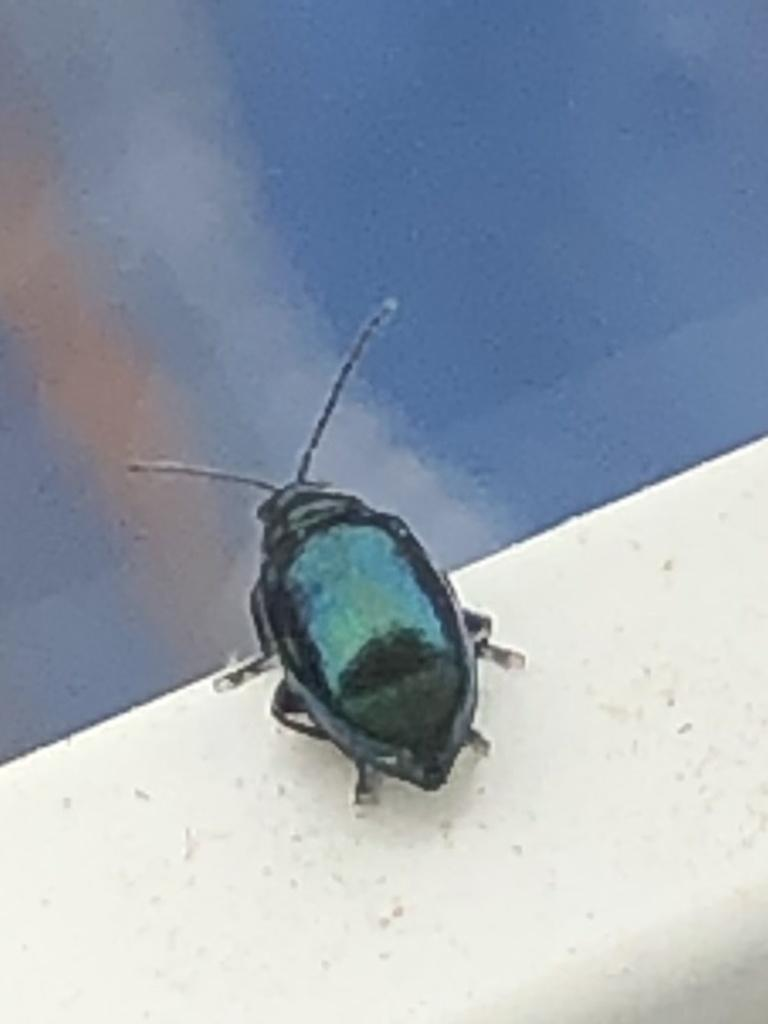flea_beetle: (45, 251, 670, 876)
